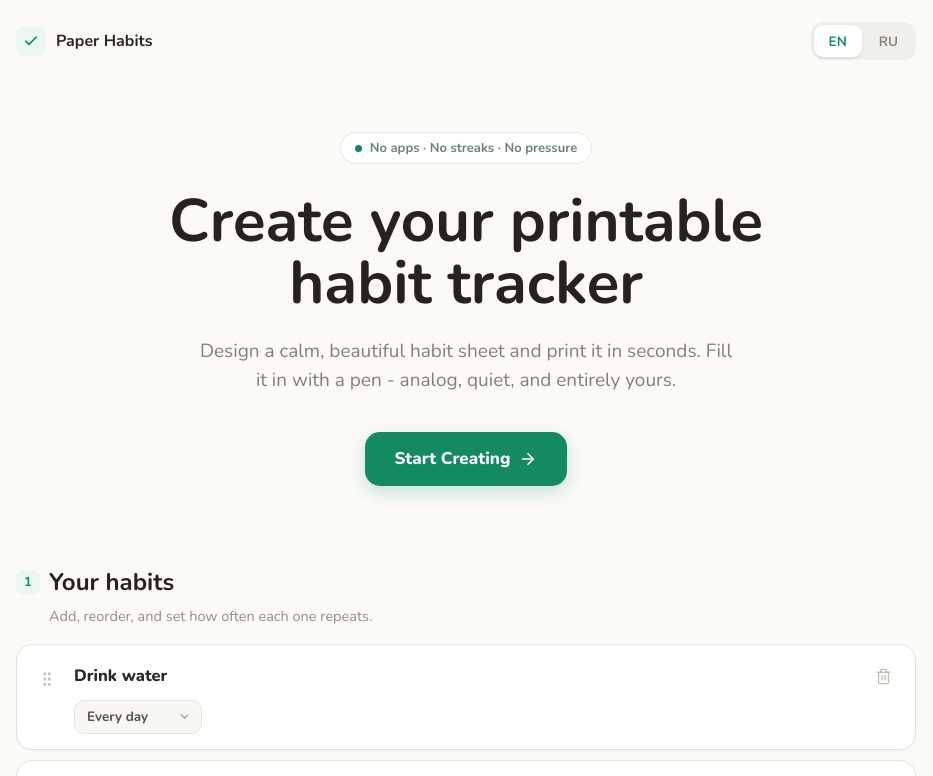
it: App › switches language and period controls
Click the button "RU": (888, 41) [864,25,913,57]
(page scrolled)
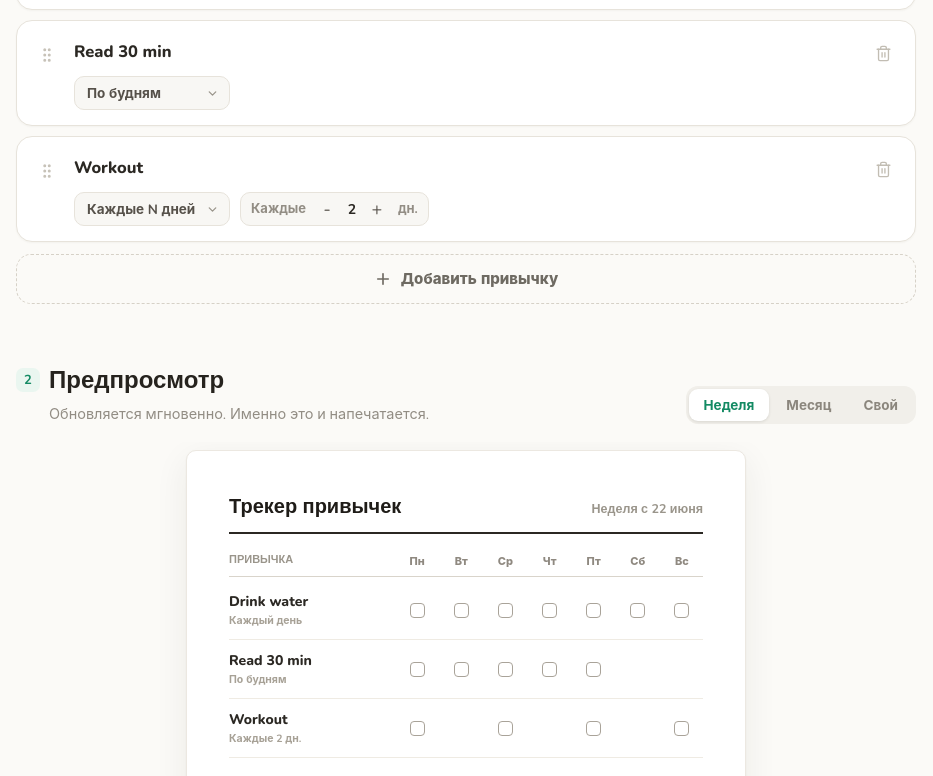
Click the button "Свой": (881, 405) [848,389,913,421]
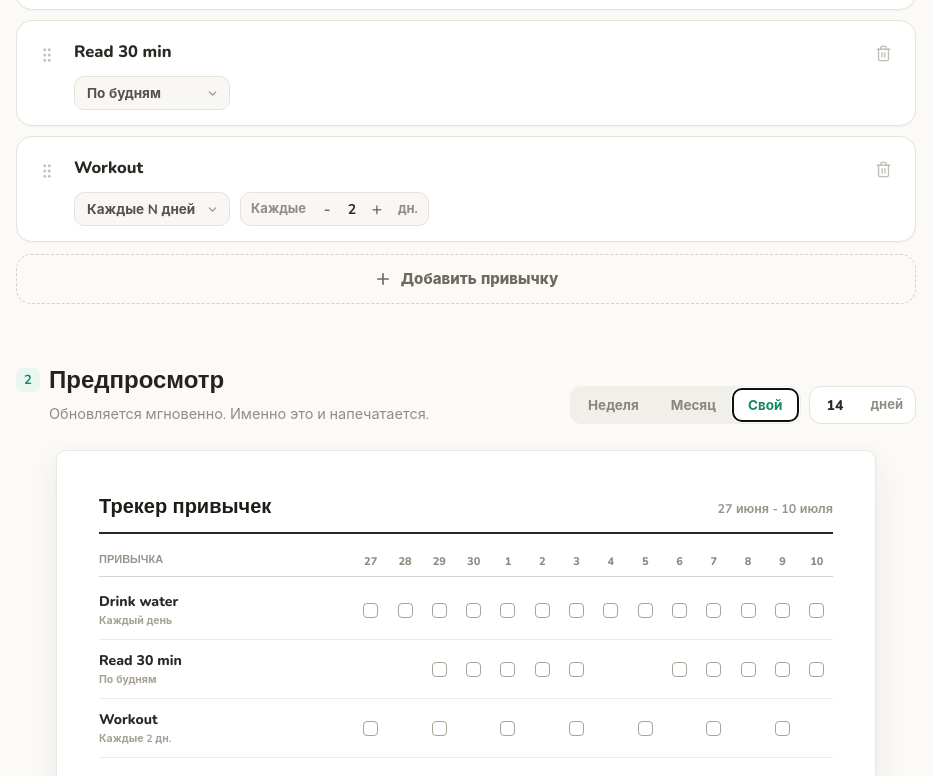
Replace the text in the number field named "свои дни" with "99": (842, 405) [822,395,864,416]
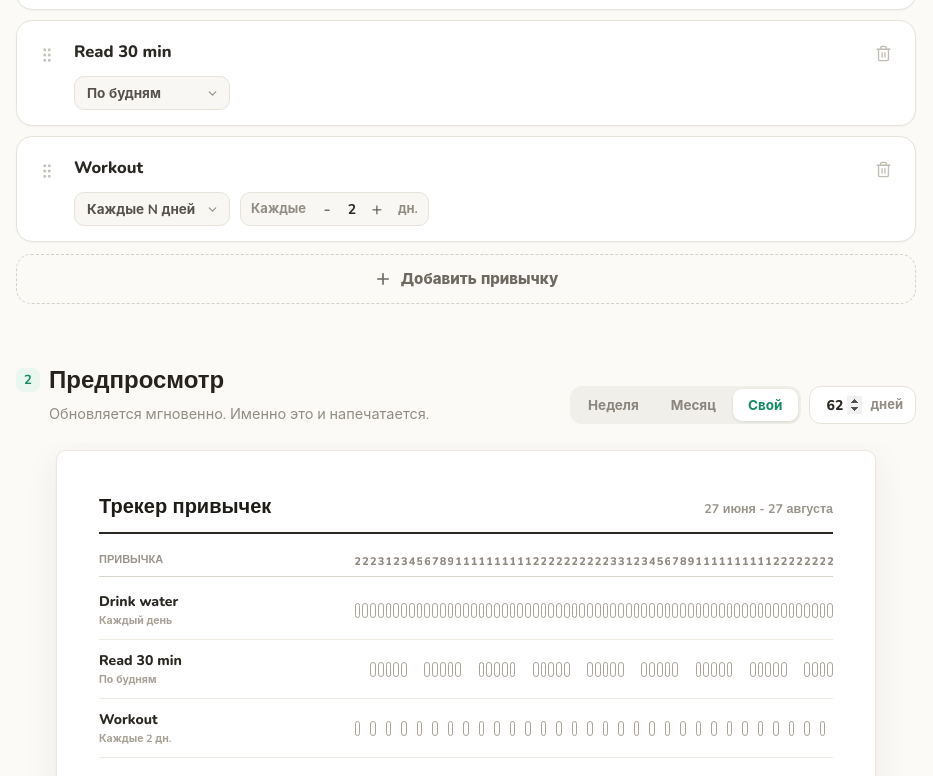
Expected: the number field named "свои дни" holds "62", [822,395,864,416]
